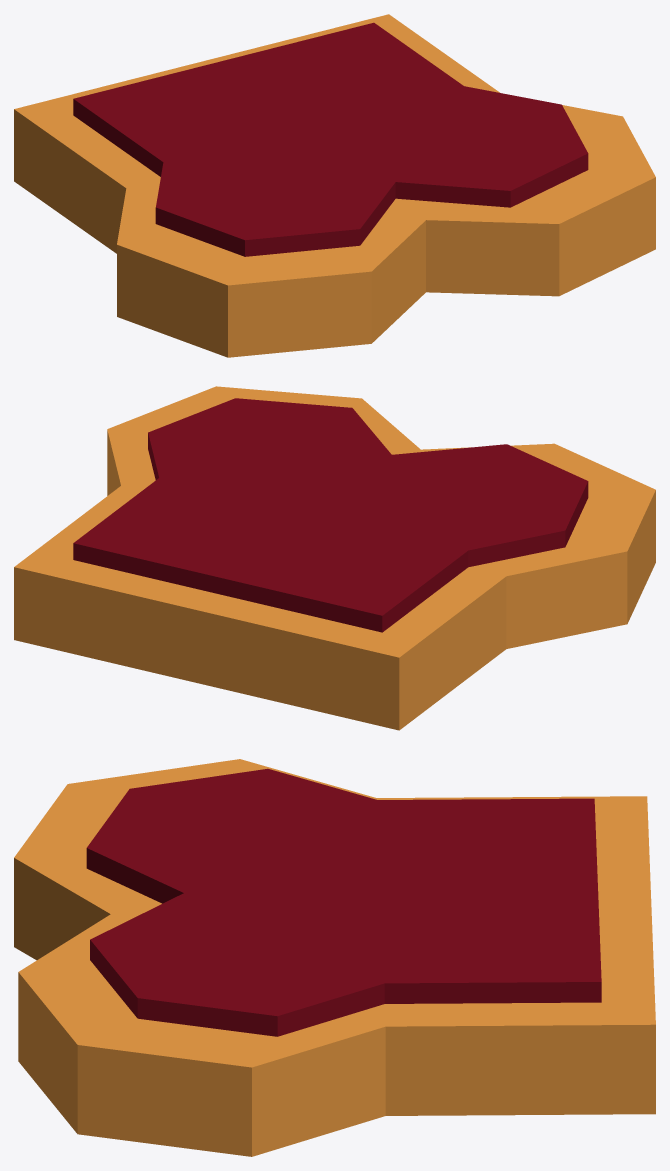
Rendered from toast.fbx.
3 renders of one model, top to bottom at view 1: azimuth 30°, elevation 25°; view 2: azimuth 150°, elevation 25°; view 3: azimuth 270°, elevation 25°, orthographic. The views are drawn at different scales.
Visible parts, largest first — view 1: Plane; view 2: Plane; view 3: Plane.
Boxes of the visible parts, <box> form: Plane: <box>14,14,655,357</box>; Plane: <box>14,386,655,730</box>; Plane: <box>14,759,655,1156</box>.
Bounding box in the file's own units: 0.185 × 0.0308 × 0.1627.
2 materials, 2 textured.
